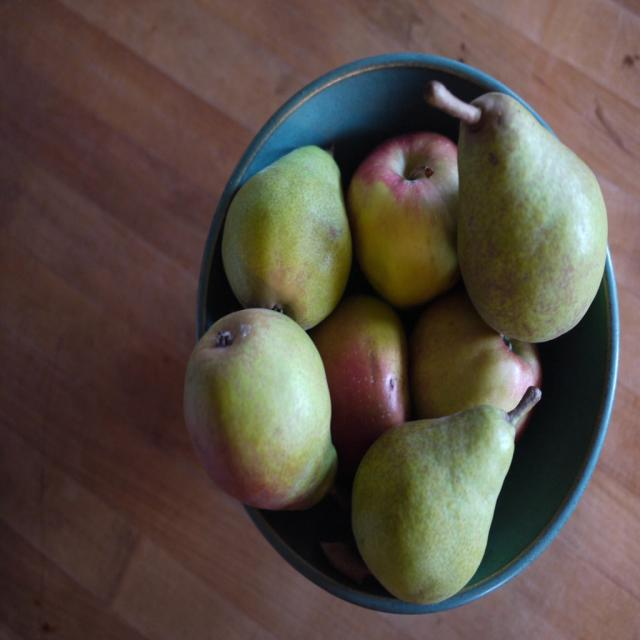pear: (459, 88, 609, 341), (348, 403, 511, 605), (182, 314, 342, 505), (222, 139, 351, 333)
